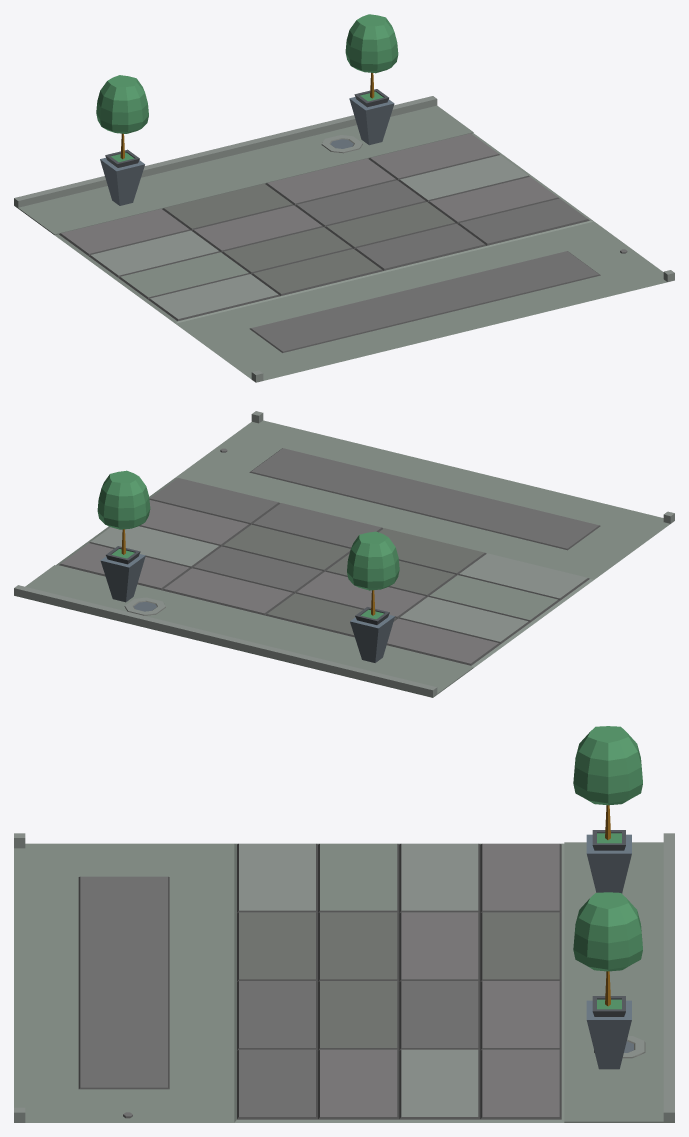
The model's file is Fork_C.gltf.
The picture shows the model from 3 angles, top to bottom: view 1: azimuth 30°, elevation 25°; view 2: azimuth 150°, elevation 25°; view 3: azimuth 270°, elevation 25°; orthographic projection. The views are drawn at different scales.
Parts seen in each view (by area): view 1: Scifi_Panel_02 Plaza014_group4.028; view 2: Scifi_Panel_02 Plaza014_group4.028; view 3: Scifi_Panel_02 Plaza014_group4.028.
Boxes of the visible parts, x1,y1,x2,y2 form: Scifi_Panel_02 Plaza014_group4.028: [14, 14, 674, 382]; Scifi_Panel_02 Plaza014_group4.028: [14, 411, 674, 697]; Scifi_Panel_02 Plaza014_group4.028: [14, 726, 674, 1122].
Size of what is drawn, in the model's own units: 10 by 2.77 by 10.
Materials: 1 (1 with a texture image).
